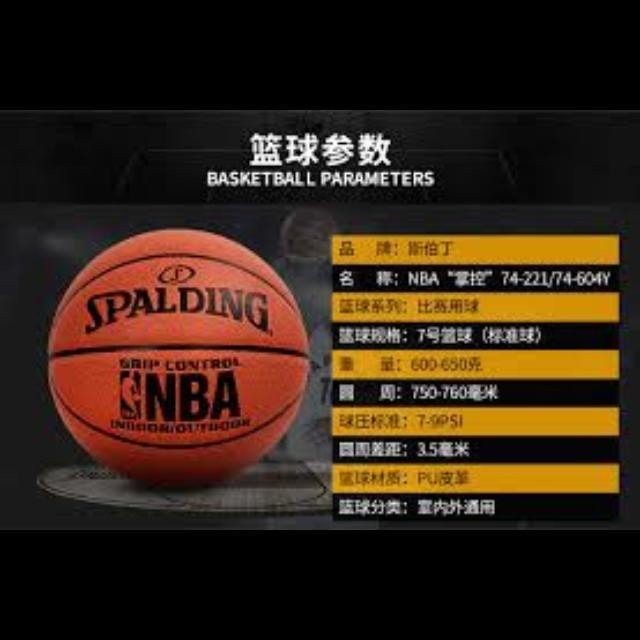basketball: (50, 229, 308, 486)
